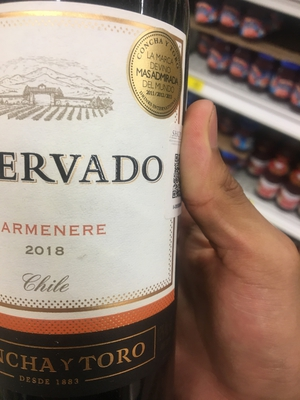reservado carmenere: (1, 8, 195, 400)
